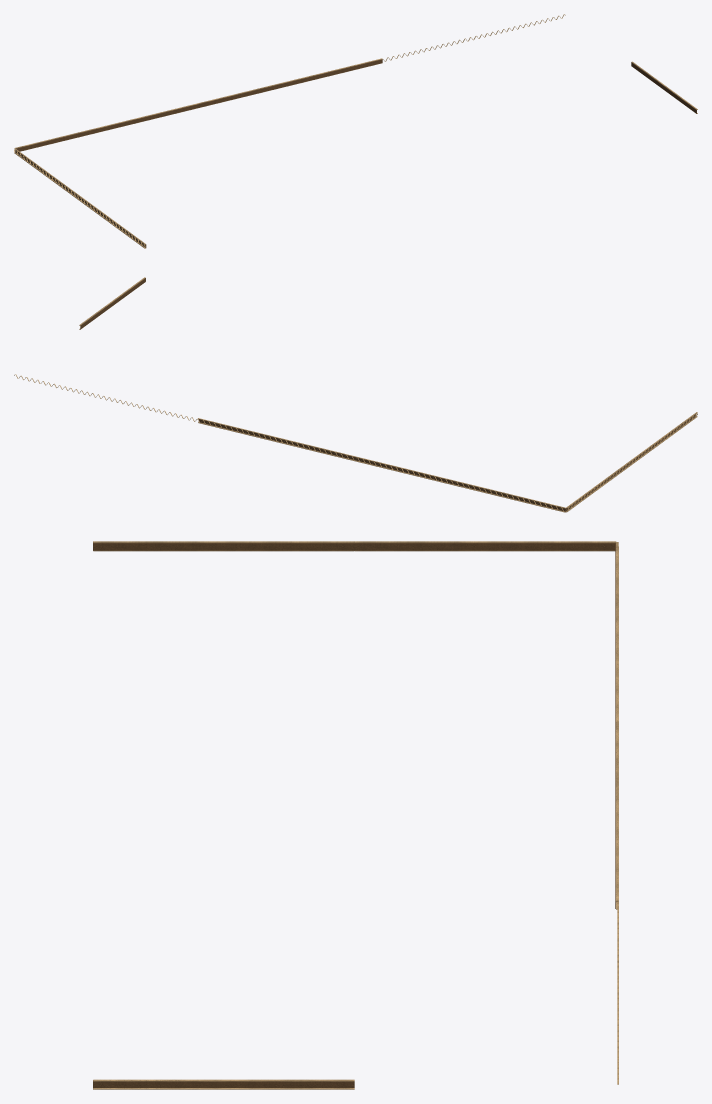
File: 16-corrugated-top-box-cut-edges-4.fbx
The picture shows the model from 3 angles, top to bottom: view 1: azimuth 30°, elevation 25°; view 2: azimuth 150°, elevation 25°; view 3: azimuth 270°, elevation 25°; orthographic projection. The views are drawn at different scales.
Parts seen in each view (by area): view 1: corrugated-top-box-cut-edges-4; view 2: corrugated-top-box-cut-edges-4; view 3: corrugated-top-box-cut-edges-4.
Part boxes in pixels (<box>): corrugated-top-box-cut-edges-4: <box>14,14,697,248</box>; corrugated-top-box-cut-edges-4: <box>14,277,697,512</box>; corrugated-top-box-cut-edges-4: <box>93,541,618,1089</box>.
Size of the model in its own units: 18067 by 140 by 7436.
Materials: 1 (1 with a texture image).
